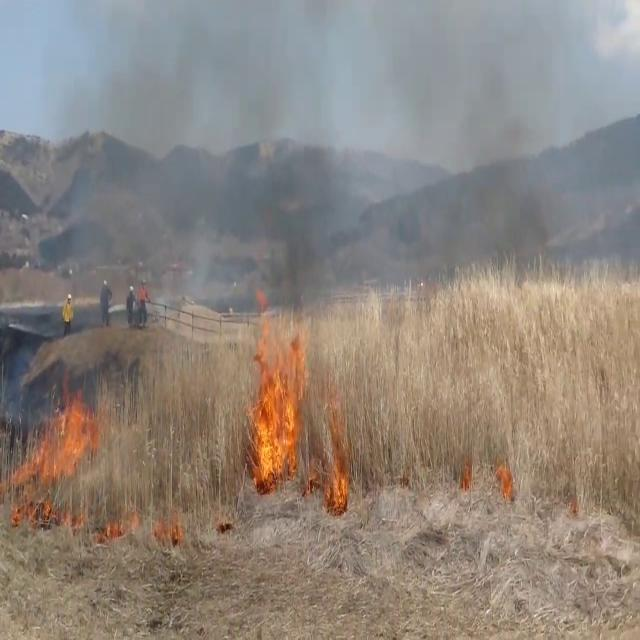Fire: (247, 298, 310, 488), (14, 382, 98, 505)
Smoke: (26, 1, 602, 319)
